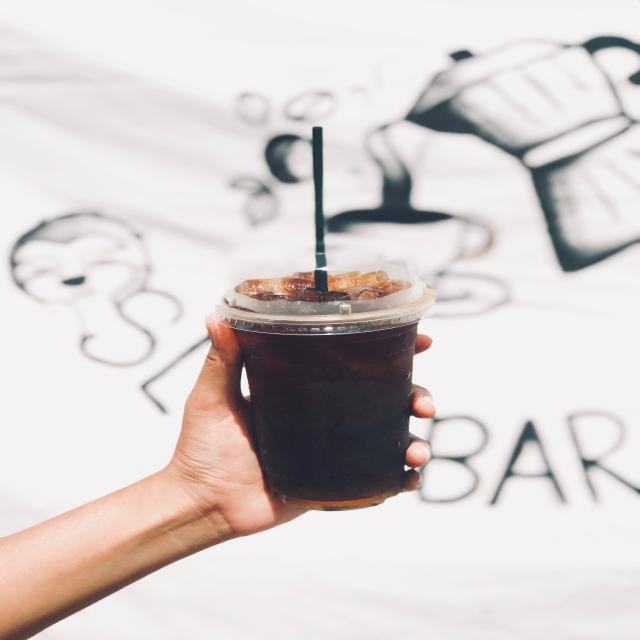cup: (215, 235, 439, 513)
